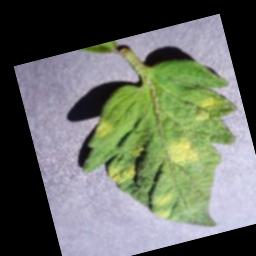Leaf_Mold: (100, 140, 156, 192), (159, 133, 202, 171), (189, 89, 230, 127), (148, 186, 180, 222), (89, 114, 116, 141)
